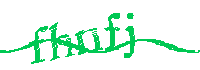f: (104, 8, 121, 53), (30, 26, 48, 65)
h: (50, 22, 73, 59)
j: (125, 11, 136, 60)
n: (74, 27, 102, 53)
